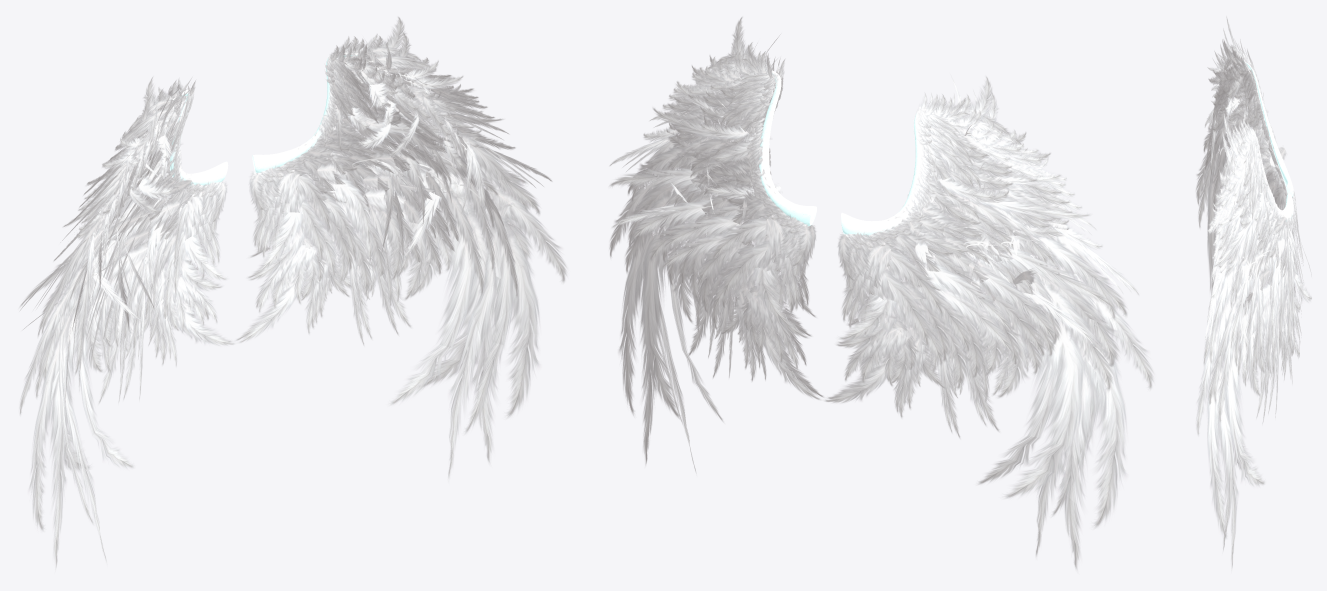
Rendered from FRAGMENT_ECLIPSE.glb.
The picture shows the model from 3 angles, left to right: view 1: azimuth 30°, elevation 25°; view 2: azimuth 150°, elevation 25°; view 3: azimuth 270°, elevation 25°; orthographic projection. The views are drawn at different scales.
Visible parts, largest first — view 1: polySurface2197_Feather_0, polySurface2197_Wing_0; view 2: polySurface2197_Feather_0, polySurface2197_Wing_0; view 3: polySurface2197_Feather_0, polySurface2197_Wing_0.
Part boxes in pixels (box(x1,y1,x2,y2)): polySurface2197_Feather_0: box(19, 16, 567, 569); polySurface2197_Wing_0: box(170, 52, 358, 185); polySurface2197_Feather_0: box(609, 17, 1153, 570); polySurface2197_Wing_0: box(759, 68, 936, 235); polySurface2197_Feather_0: box(1196, 16, 1311, 568); polySurface2197_Wing_0: box(1242, 60, 1293, 221).
Size of the model in its own units: 1.75 by 1.45 by 0.3803.
2 materials, 2 textured.
